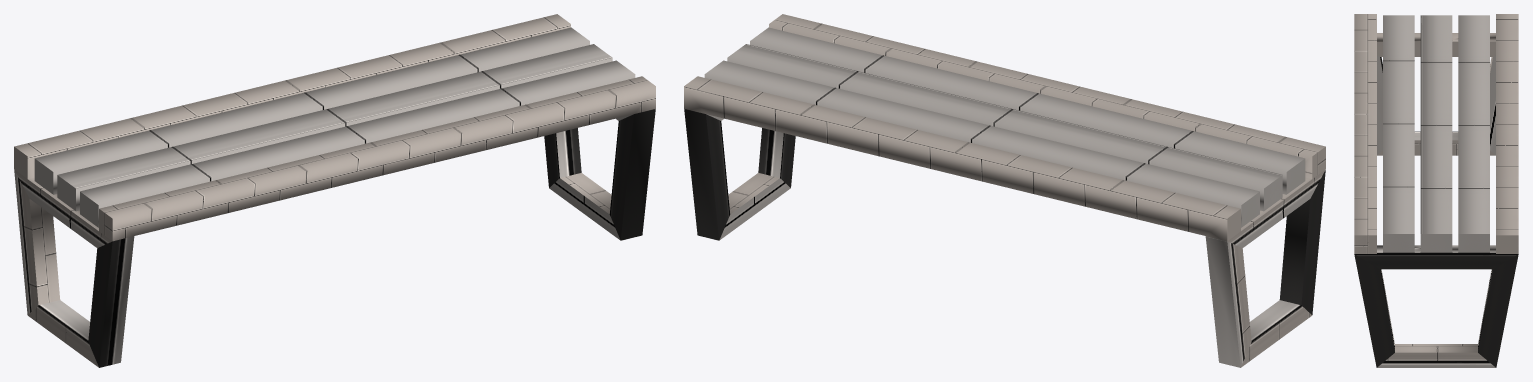
Rendered from ParkBench_1_V2.fbx.
3 views of the same model, side by side, from view 1: azimuth 30°, elevation 25°; view 2: azimuth 150°, elevation 25°; view 3: azimuth 270°, elevation 25° (orthographic). The views are drawn at different scales.
Parts seen in each view (by area): view 1: ParkBench_2_V2; view 2: ParkBench_2_V2; view 3: ParkBench_2_V2.
Boxes of the visible parts, bbox=[...] form: ParkBench_2_V2: bbox=[14, 14, 655, 367]; ParkBench_2_V2: bbox=[684, 14, 1325, 367]; ParkBench_2_V2: bbox=[1354, 14, 1518, 367].
Size of the model in its own units: 250 by 70 by 78.53.
